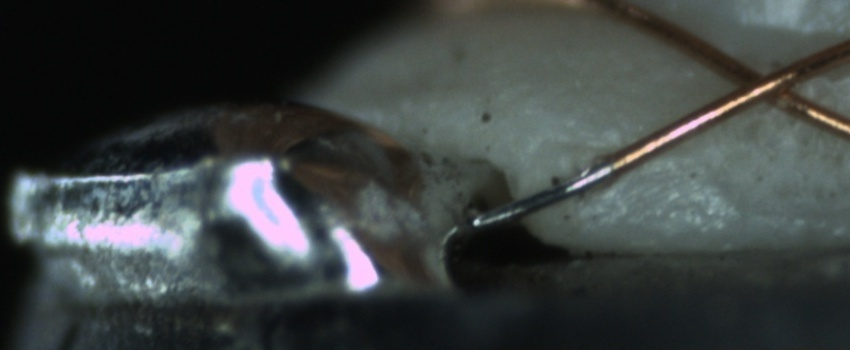CL: (710, 49, 820, 118)
TS: (471, 159, 615, 230)
TTCW: (465, 144, 631, 229)
